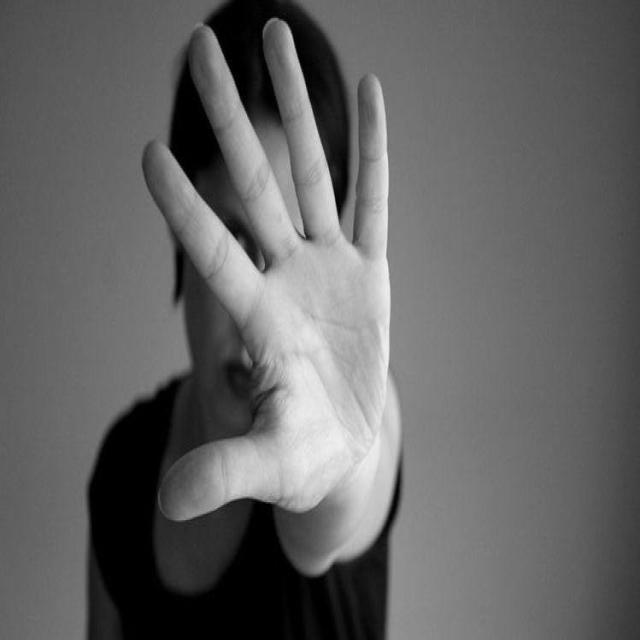stop: (137, 7, 396, 528)
